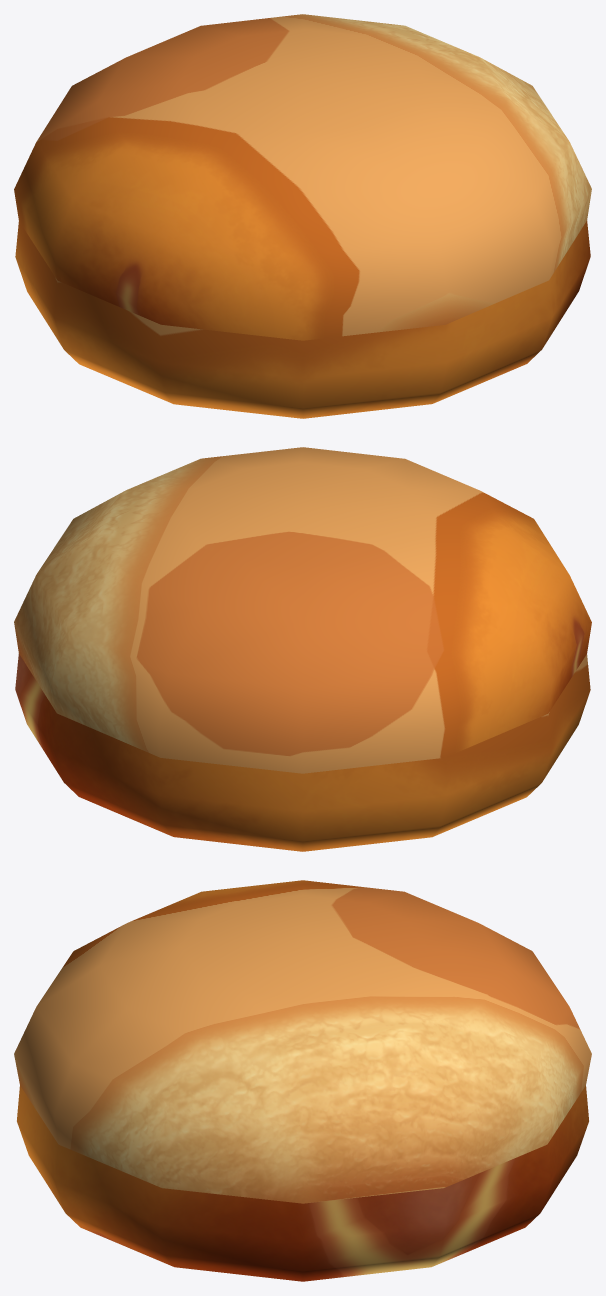
File: Bun_Burger_Seeds.fbx
The picture shows the model from 3 angles, top to bottom: view 1: azimuth 30°, elevation 25°; view 2: azimuth 150°, elevation 25°; view 3: azimuth 270°, elevation 25°; orthographic projection.
Visible parts, largest first — view 1: Bun_Burger_Seeds; view 2: Bun_Burger_Seeds; view 3: Bun_Burger_Seeds.
Part boxes in pixels (left/top/right/bottom): Bun_Burger_Seeds: left=14, top=14, right=591, bottom=418; Bun_Burger_Seeds: left=14, top=447, right=591, bottom=851; Bun_Burger_Seeds: left=14, top=880, right=591, bottom=1281.
Bounding box in the file's own units: 43.05 × 19.45 × 43.58.
